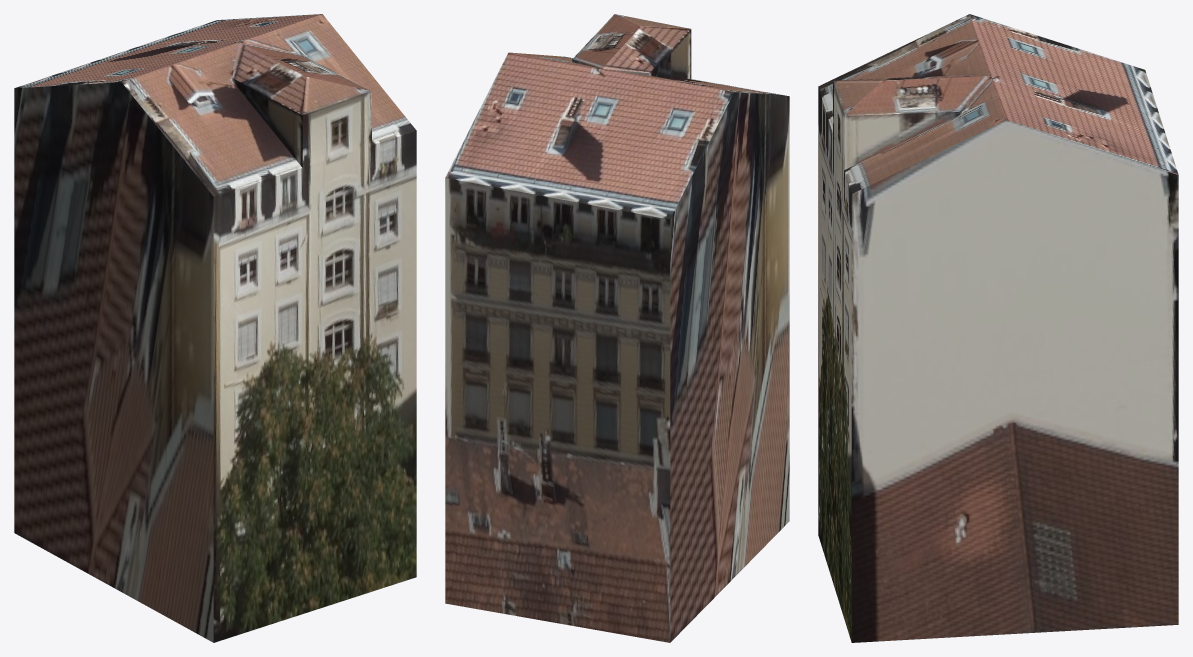
3 renders of one model, left to right at view 1: azimuth 30°, elevation 25°; view 2: azimuth 150°, elevation 25°; view 3: azimuth 270°, elevation 25°, orthographic. The views are drawn at different scales.
Parts seen in each view (by area): view 1: Z_UP; view 2: Z_UP; view 3: Z_UP.
Part boxes in pixels (x1,y1,x2,y2): Z_UP: (14,14,416,642); Z_UP: (445,14,789,642); Z_UP: (818,14,1178,642).
Size of the model in its own units: 14.28 by 27.26 by 17.27.
2 materials, 1 textured.
